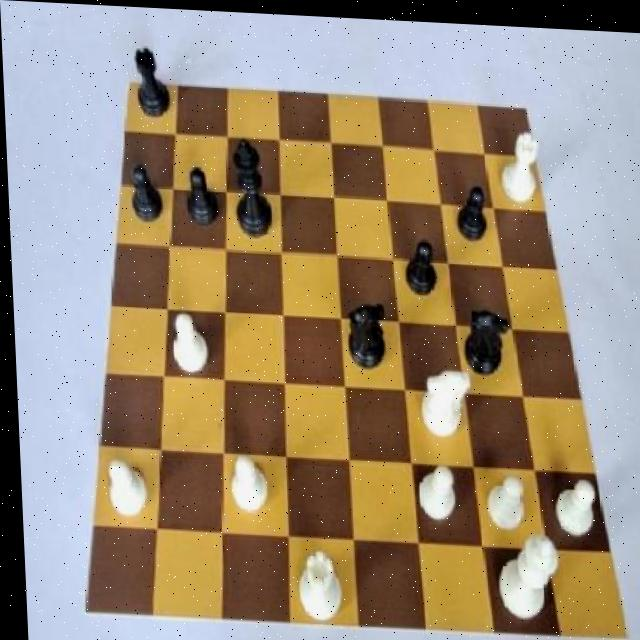black-bishop: (228, 123, 271, 242)
black-king: (457, 296, 511, 377), (339, 293, 387, 381)
black-knight: (451, 178, 490, 251), (398, 227, 436, 301), (180, 162, 221, 228), (121, 162, 163, 226)
black-queen: (130, 40, 170, 120)
white-bishop: (487, 522, 556, 621)
white-king: (410, 358, 469, 441)
white-knight: (409, 459, 458, 530), (99, 454, 149, 519), (547, 469, 595, 536), (479, 463, 524, 534), (224, 448, 267, 516), (167, 311, 205, 377)
white-queen: (290, 536, 341, 622), (493, 123, 540, 209)
